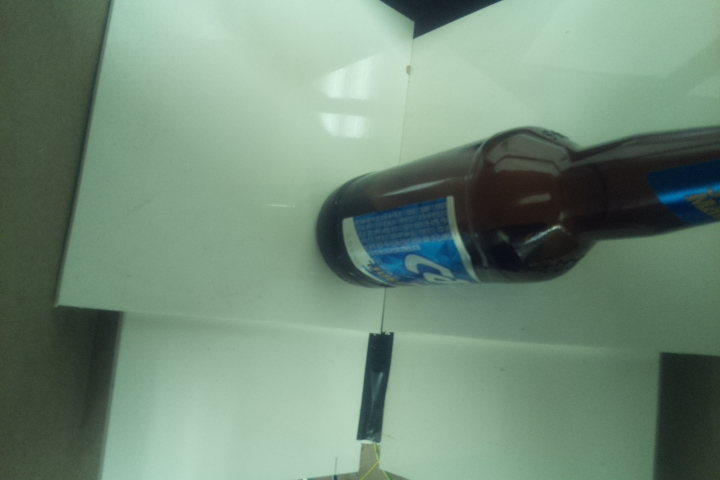makju: (312, 120, 720, 291)
